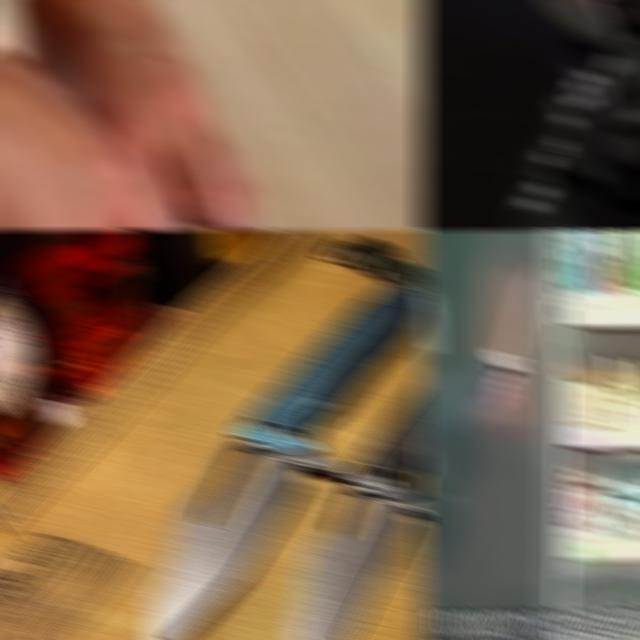Knife: (498, 0, 622, 46)
Knife_Handle: (0, 0, 426, 231), (486, 264, 547, 408)
